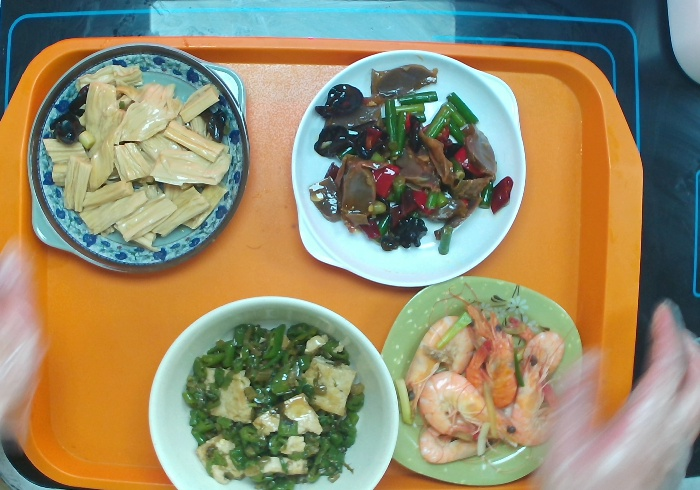NLDX-Bai_Se_Shuang_Er_Die: (288, 47, 530, 292)
NLDX-Bai_Se_Yuan_Wan: (143, 292, 403, 490)
NLDX-Lv_Hua_Fang_Die: (376, 273, 591, 490)
NLDX-Qing_Hua_Shuang_Er_Die: (23, 39, 253, 282)
